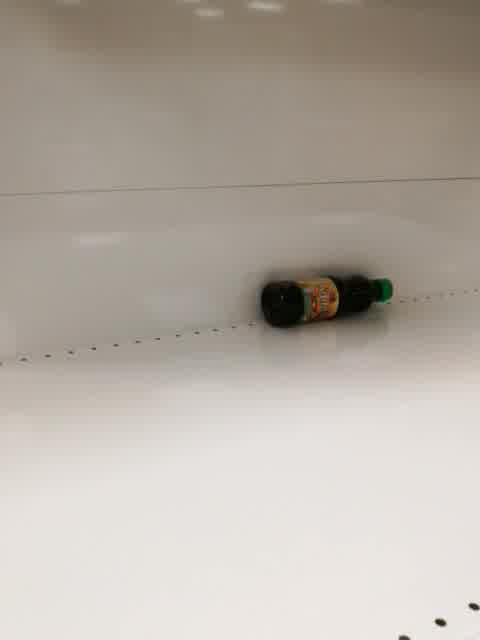cookingoil: (258, 274, 394, 330)
